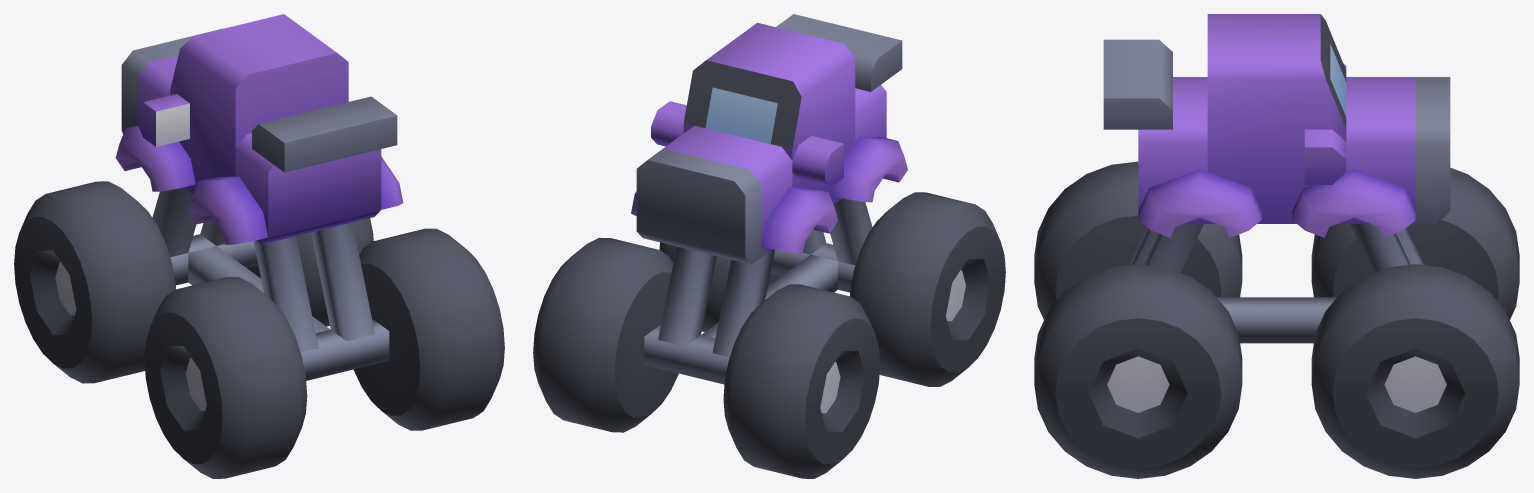
File: monster_truck.glb
3 views of the same model, side by side, from view 1: azimuth 30°, elevation 25°; view 2: azimuth 150°, elevation 25°; view 3: azimuth 270°, elevation 25° (orthographic). The views are drawn at different scales.
Visible parts, largest first — view 1: body, wheel-bl, wheel-fl, wheel-br, wheel-fr; view 2: body, wheel-fl, wheel-bl, wheel-fr, wheel-br; view 3: body, wheel-br, wheel-fr, wheel-bl, wheel-fl.
Boxes of the visible parts, <box> form: body: <box>115,14,403,380</box>; wheel-bl: <box>144,276,307,478</box>; wheel-fl: <box>14,181,175,383</box>; wheel-br: <box>353,228,504,430</box>; wheel-fr: <box>247,218,373,326</box>; body: <box>631,14,907,384</box>; wheel-fl: <box>723,284,880,478</box>; wheel-bl: <box>850,192,1005,386</box>; wheel-fr: <box>533,237,678,432</box>; wheel-br: <box>659,242,780,332</box>; body: <box>1103,14,1450,343</box>; wheel-br: <box>1034,264,1242,478</box>; wheel-fr: <box>1311,264,1519,478</box>; wheel-bl: <box>1034,161,1242,319</box>; wheel-fl: <box>1311,167,1519,319</box>.
Size of the model in its own units: 1.16 by 1.39 by 1.63.
1 material, 1 textured.
